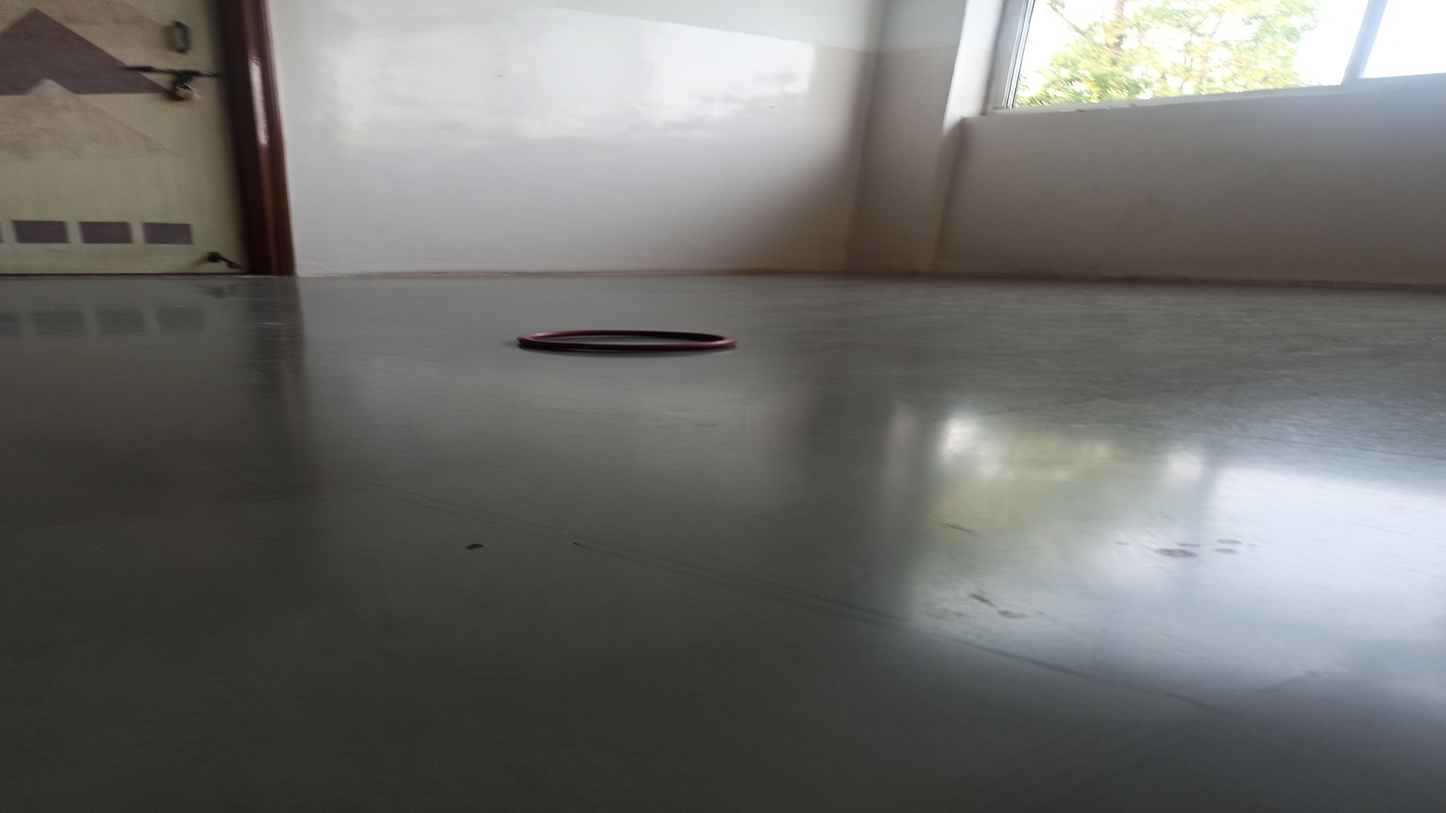Red ring: (517, 327, 737, 352)
